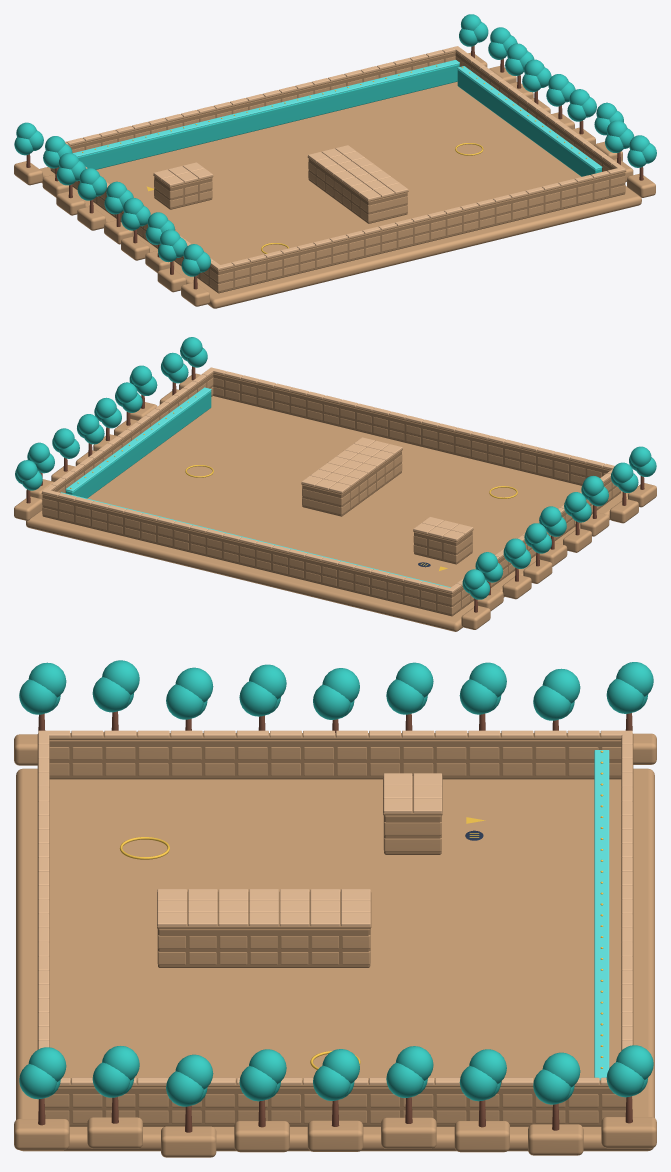
Rendered from reactor.runtime.gltf.
3 renders of one model, top to bottom at view 1: azimuth 30°, elevation 25°; view 2: azimuth 150°, elevation 25°; view 3: azimuth 270°, elevation 25°, orthographic. The views are drawn at different scales.
Visible parts, largest first — view 1: SOLID 0 border; view 2: SOLID 0 border; view 3: SOLID 0 border.
Part boxes in pixels (x1=…): SOLID 0 border: x1=14, y1=14, x2=656, y2=308; SOLID 0 border: x1=14, y1=337, x2=656, y2=631; SOLID 0 border: x1=14, y1=660, x2=656, y2=1157.
Size of the model in its own units: 24.83 by 3.04 by 16.2.
